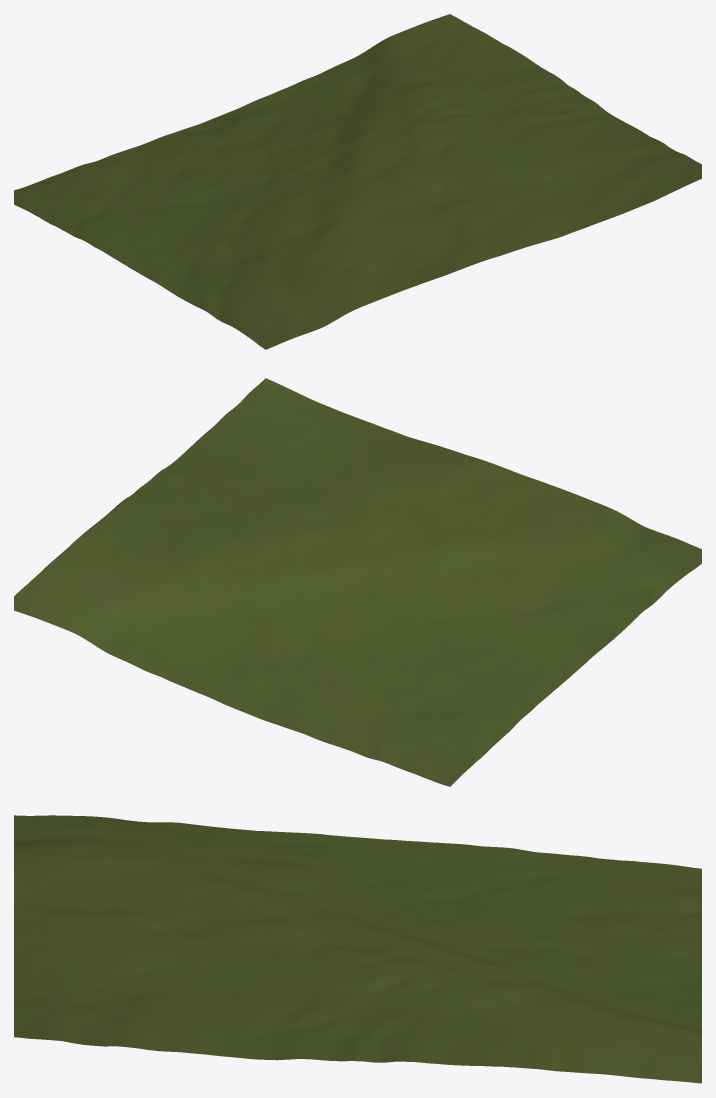
File: terrain_2_-1.glb
3 views of the same model, one above another, from view 1: azimuth 30°, elevation 25°; view 2: azimuth 150°, elevation 25°; view 3: azimuth 270°, elevation 25° (orthographic). The views are drawn at different scales.
Parts seen in each view (by area): view 1: terrain_2_-1; view 2: terrain_2_-1; view 3: terrain_2_-1.
Boxes of the visible parts, box(x1,y1,x2,y2) form: terrain_2_-1: box(14, 14, 701, 349); terrain_2_-1: box(14, 378, 701, 786); terrain_2_-1: box(14, 815, 701, 1083).
Size of the model in its own units: 256 by 66.23 by 256.
